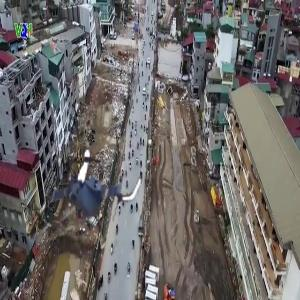drone: (44, 138, 144, 238)
